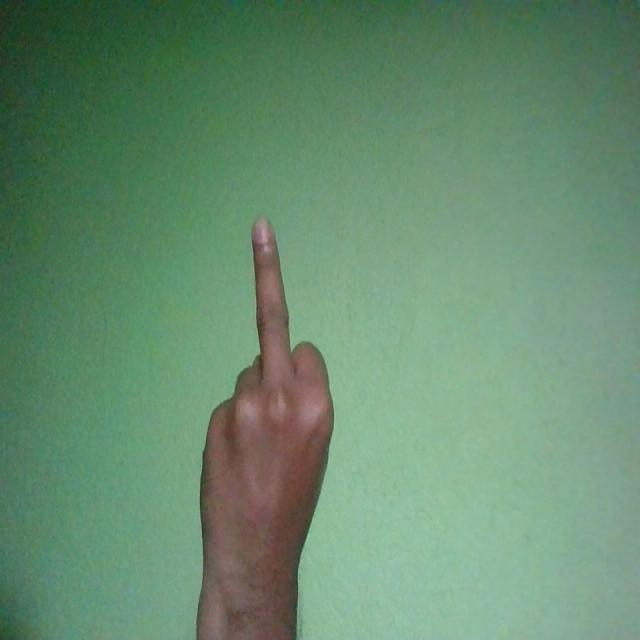Middle Finger: (200, 216, 336, 627)
